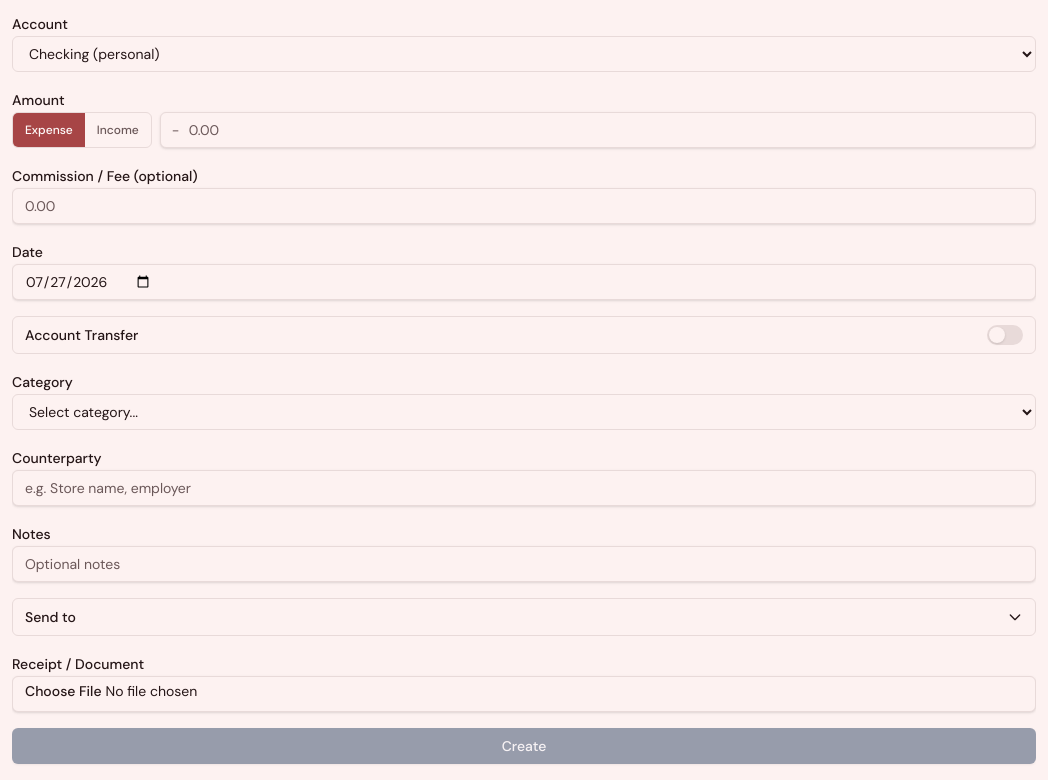
Test: TransactionForm - transfer mode › should show target account dropdown when transfer is toggled on
Click the switch.
click(1005, 335)  # box [987,325,1023,345]
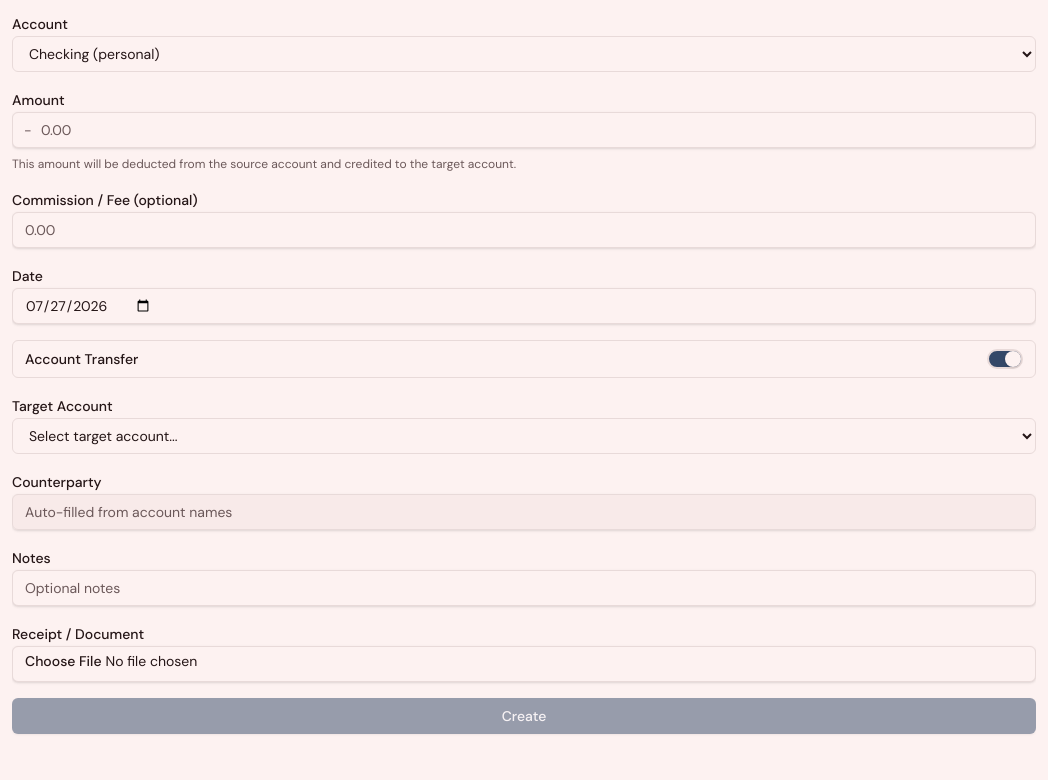
Result: the text "Target Account" is shown at [12,397,113,415]
